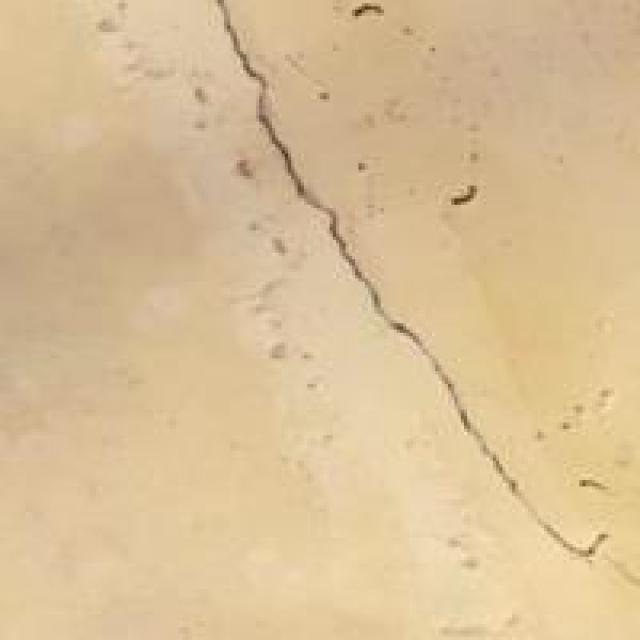crack: (196, 0, 614, 589)
